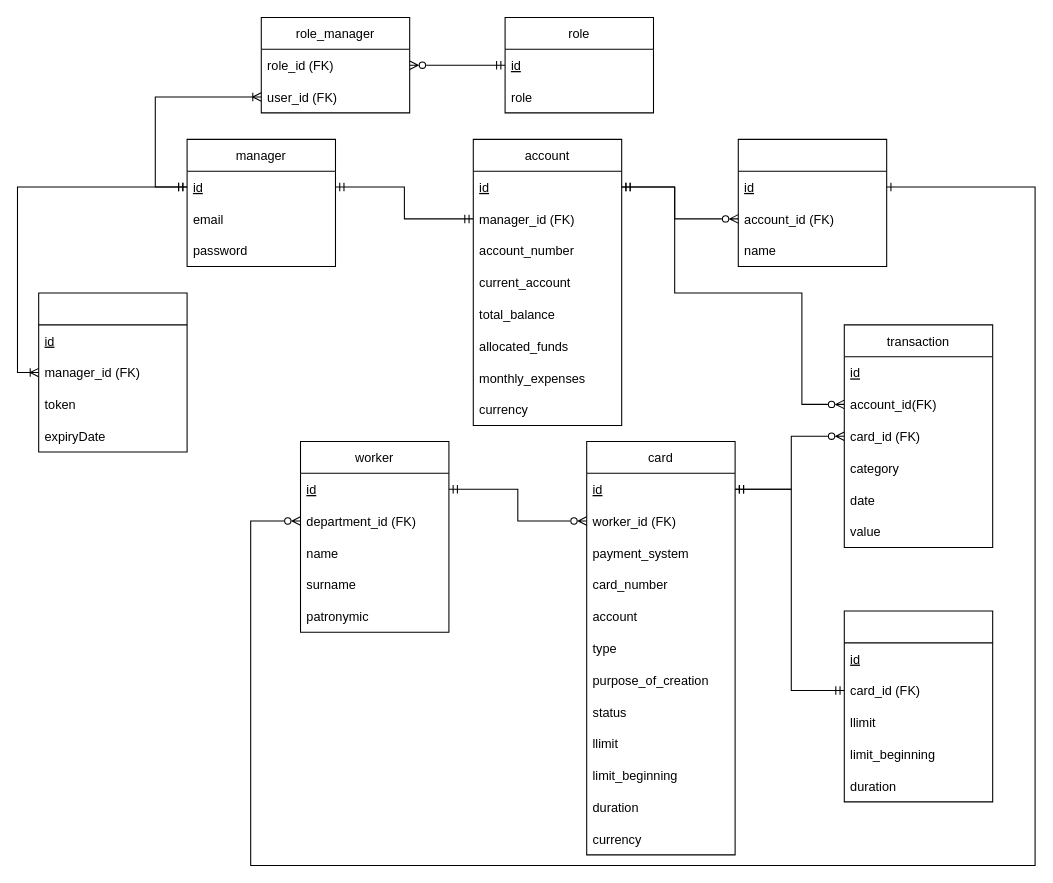
This 1053x883 diagram has some shape labels left out. The shapes that lost their labels are listed below. From the top down, each one's box as (x1, y1, x2, y2) in pixels, then its label:
(737, 138, 887, 267): department
(38, 292, 187, 452): refresh_token
(843, 610, 993, 802): limit_history
